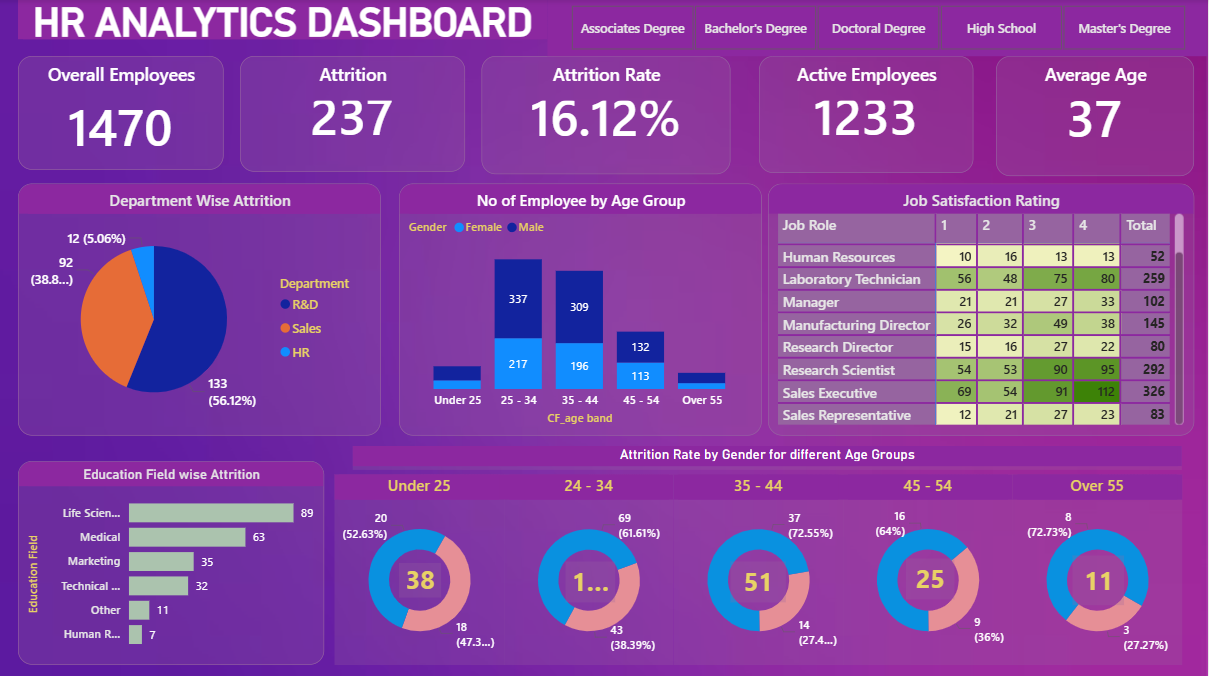

This screenshot's page, from the dashboard's own definition file:
{"tool":"powerbi","page":{"name":"Page 1","canvas":[1280,720],"ordinal":0},"visuals":[{"type":"cardVisual","title":"Overall Employees","fields":{"Data":["Sum(HR Data xlsx - HR data.Employee Count)"]},"box":[19.1,60.4,217.9,120.9],"z":0},{"type":"cardVisual","title":"Attrition","fields":{"Data":["Sum(HR Data xlsx - HR data.Attrition Count)"]},"box":[254.5,60.4,238.6,122.5],"z":1000},{"type":"cardVisual","title":"Attrition Rate","fields":{"Data":["HR Data xlsx - HR data.Attrition Rate"]},"box":[510.6,60.4,264,125.7],"z":2000},{"type":"cardVisual","title":"Active Employees","fields":{"Data":["HR Data xlsx - HR data.Active Employees"]},"box":[804.8,60.4,227.5,124.1],"z":3000},{"type":"cardVisual","title":"Average Age","fields":{"Data":["Avg(HR Data xlsx - HR data.Age)"]},"box":[1056.2,60.4,210,127.2],"z":4000},{"type":"pieChart","title":"Department Wise Attrition","fields":{"Category":["HR Data xlsx - HR data.Department"],"Y":["Sum(HR Data xlsx - HR data.Attrition Count)"]},"box":[19.1,195.6,384.9,267.2],"z":5000},{"type":"columnChart","title":"No of Employee by Age Group","fields":{"Y":["Sum(HR Data xlsx - HR data.Employee Count)"],"Category":["HR Data xlsx - HR data.CF_age band"],"Series":["HR Data xlsx - HR data.Gender"]},"box":[423.1,195.6,384.9,267.2],"z":6000},{"type":"pivotTable","title":"Job Satisfaction Rating","fields":{"Rows":["HR Data xlsx - HR data.Job Role"],"Columns":["HR Data xlsx - HR data.Job Satisfaction"],"Values":["Sum(HR Data xlsx - HR data.Employee Count)"]},"box":[833.5,195.6,432.6,267.2],"z":7000},{"type":"barChart","title":"Education Field wise Attrition","fields":{"Category":["HR Data xlsx - HR data.Education Field"],"Y":["Sum(HR Data xlsx - HR data.Attrition Count)"]},"box":[19.1,489.9,324.5,216.3],"z":8000},{"type":"donutChart","title":"Under 25","fields":{"Category":["HR Data xlsx - HR data.Gender"],"Y":["Sum(HR Data xlsx - HR data.Attrition Count)"],"Series":["HR Data xlsx - HR data.CF_age band"]},"box":[354.7,504.2,179.7,202],"z":9000},{"type":"textbox","title":"Attrition Rate by Gender for different Age Groups ","box":[373.8,474,879.6,25.4],"z":10000},{"type":"donutChart","title":"24 - 34","fields":{"Category":["HR Data xlsx - HR data.Gender"],"Y":["Sum(HR Data xlsx - HR data.Attrition Count)"],"Series":["HR Data xlsx - HR data.CF_age band"]},"box":[534.8,504.6,179.5,202.2],"z":11000},{"type":"donutChart","title":"35 - 44","fields":{"Category":["HR Data xlsx - HR data.Gender"],"Y":["Sum(HR Data xlsx - HR data.Attrition Count)"],"Series":["HR Data xlsx - HR data.CF_age band"]},"box":[714.2,504.2,179.7,202],"z":12000},{"type":"donutChart","title":"45 - 54","fields":{"Category":["HR Data xlsx - HR data.Gender"],"Y":["Sum(HR Data xlsx - HR data.Attrition Count)"],"Series":["HR Data xlsx - HR data.CF_age band"]},"box":[893.9,504.2,179.7,202],"z":13000},{"type":"donutChart","title":"Over 55","fields":{"Category":["HR Data xlsx - HR data.Gender"],"Y":["Sum(HR Data xlsx - HR data.Attrition Count)"],"Series":["HR Data xlsx - HR data.CF_age band"]},"box":[1073.7,504.2,179.7,202],"z":14000},{"type":"card","fields":{"Values":["Sum(HR Data xlsx - HR data.Attrition Count)"]},"box":[423.1,598.1,44.5,36.6],"z":15000},{"type":"card","fields":{"Values":["Sum(HR Data xlsx - HR data.Attrition Count)"]},"box":[599.1,597.2,52.9,43.5],"z":16000},{"type":"card","fields":{"Values":["Sum(HR Data xlsx - HR data.Attrition Count)"]},"box":[774.8,597.2,58.6,43.5],"z":17000},{"type":"card","fields":{"Values":["Sum(HR Data xlsx - HR data.Attrition Count)"]},"box":[960,593.4,51,43.5],"z":17001},{"type":"card","fields":{"Values":["Sum(HR Data xlsx - HR data.Attrition Count)"]},"box":[1137.6,589.6,54.8,52.9],"z":17002},{"type":"textbox","title":"HR ANALYTICS DASHBOARD","box":[19.1,0,561.5,42.9],"z":17003},{"type":"slicer","fields":{"Values":["HR Data xlsx - HR data.Education"]},"box":[580.6,0,699.9,60.4],"z":17004}]}

Visuals, with their boxes in screenshot pixels (x1, y1, x2, y2), scaled from the page's 1280x720 canvas onto the 1209x676 screenshot:
"Overall Employees" cardVisual: (18, 57, 224, 170)
"Attrition" cardVisual: (240, 57, 466, 172)
"Attrition Rate" cardVisual: (482, 57, 732, 175)
"Active Employees" cardVisual: (760, 57, 975, 173)
"Average Age" cardVisual: (998, 57, 1196, 176)
"Department Wise Attrition" pieChart: (18, 184, 382, 435)
"No of Employee by Age Group" columnChart: (400, 184, 763, 435)
"Job Satisfaction Rating" pivotTable: (787, 184, 1196, 435)
"Education Field wise Attrition" barChart: (18, 460, 325, 663)
"Under 25" donutChart: (335, 473, 505, 663)
"Attrition Rate by Gender for different Age Groups " textbox: (353, 445, 1184, 469)
"24 - 34" donutChart: (505, 474, 675, 664)
"35 - 44" donutChart: (675, 473, 844, 663)
"45 - 54" donutChart: (844, 473, 1014, 663)
"Over 55" donutChart: (1014, 473, 1184, 663)
card - Sum(HR Data xlsx - HR data.Attrition Count): (400, 562, 442, 596)
card - Sum(HR Data xlsx - HR data.Attrition Count): (566, 561, 616, 602)
card - Sum(HR Data xlsx - HR data.Attrition Count): (732, 561, 787, 602)
card - Sum(HR Data xlsx - HR data.Attrition Count): (907, 557, 955, 598)
card - Sum(HR Data xlsx - HR data.Attrition Count): (1074, 554, 1126, 603)
"HR ANALYTICS DASHBOARD" textbox: (18, 0, 548, 40)
slicer - HR Data xlsx - HR data.Education: (548, 0, 1208, 57)
